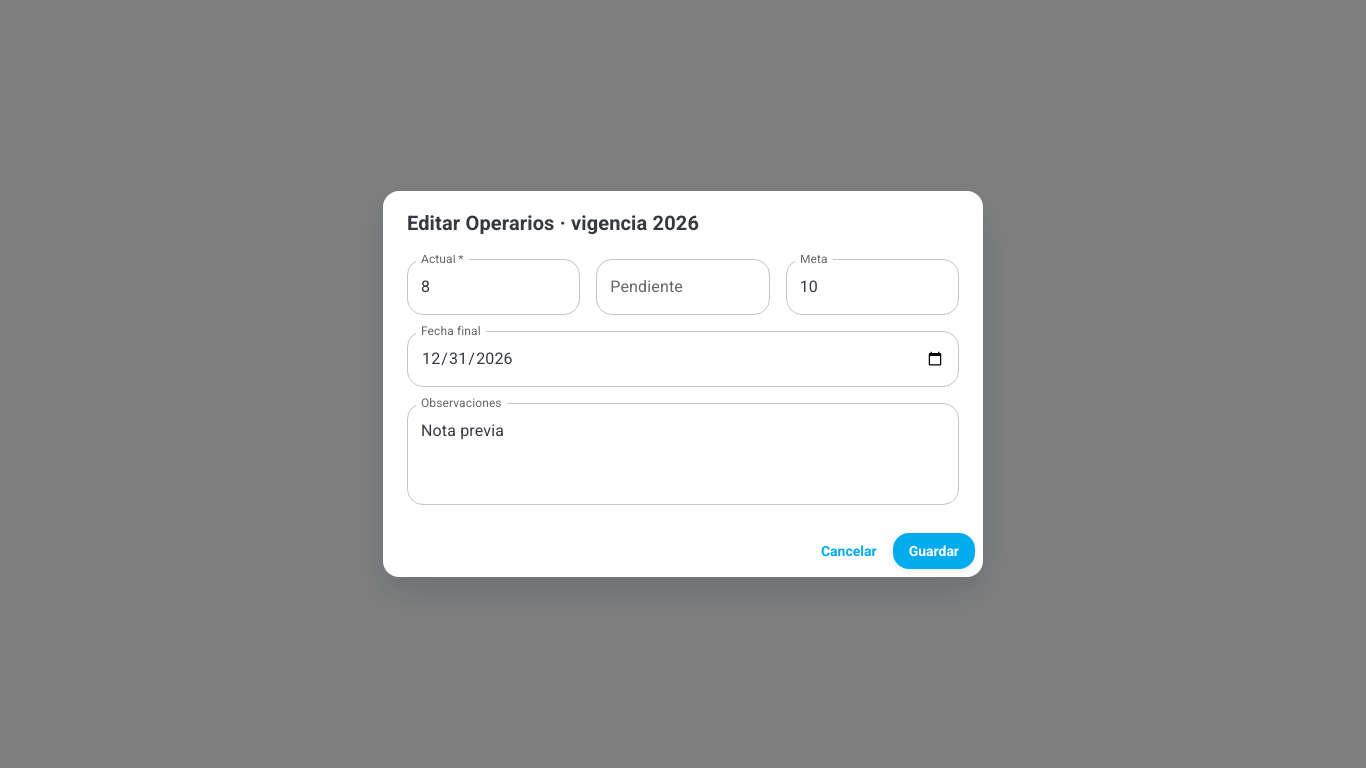
Test: EditarCorteDialog › muestra el error de la API y no avisa guardado
The width and height of the screenshot is (1366, 768).
Click the button "Guardar".
click(934, 551)  # box [893,533,975,569]
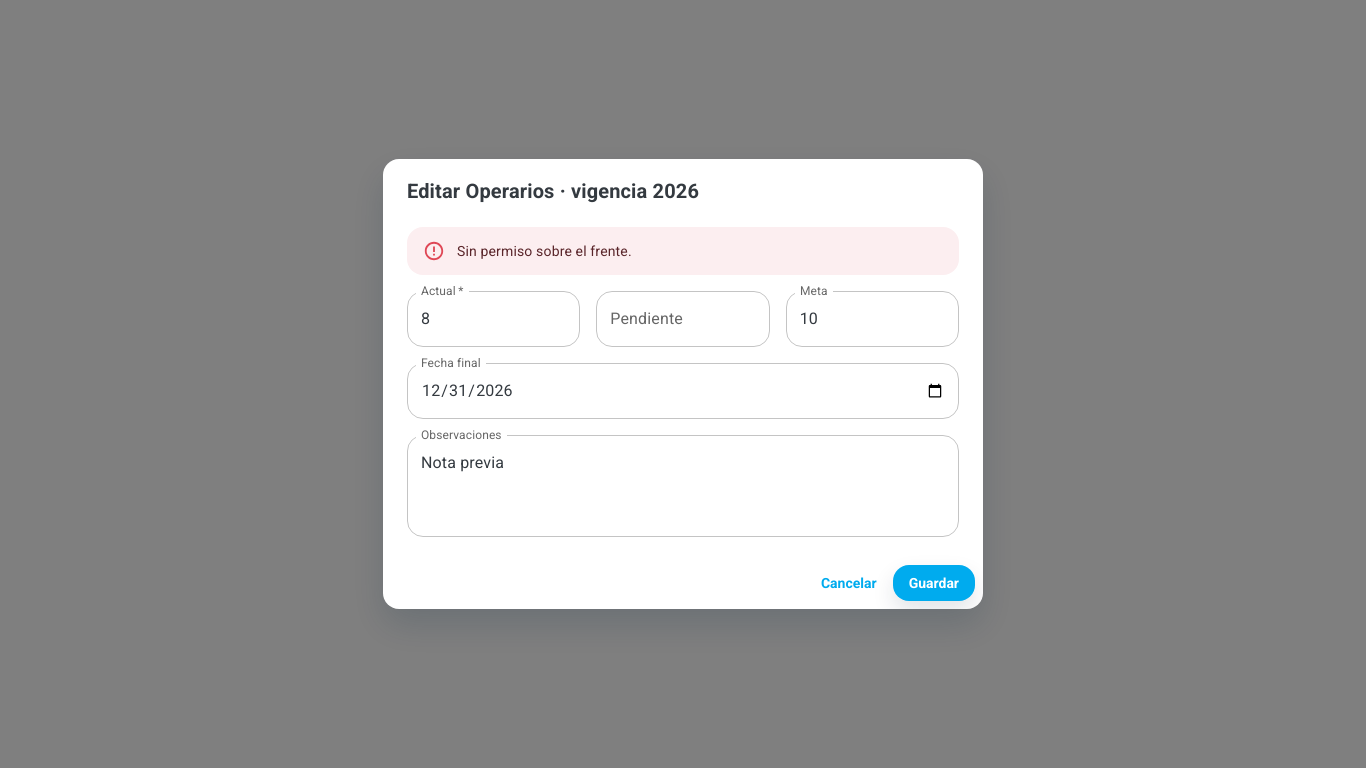
Result: the text "Sin permiso sobre el frente." is shown at [457,243,632,259]
